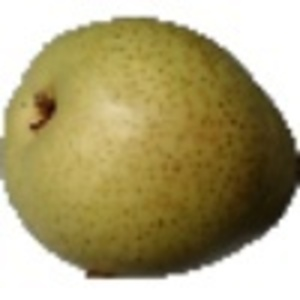pera: (1, 14, 300, 284)
